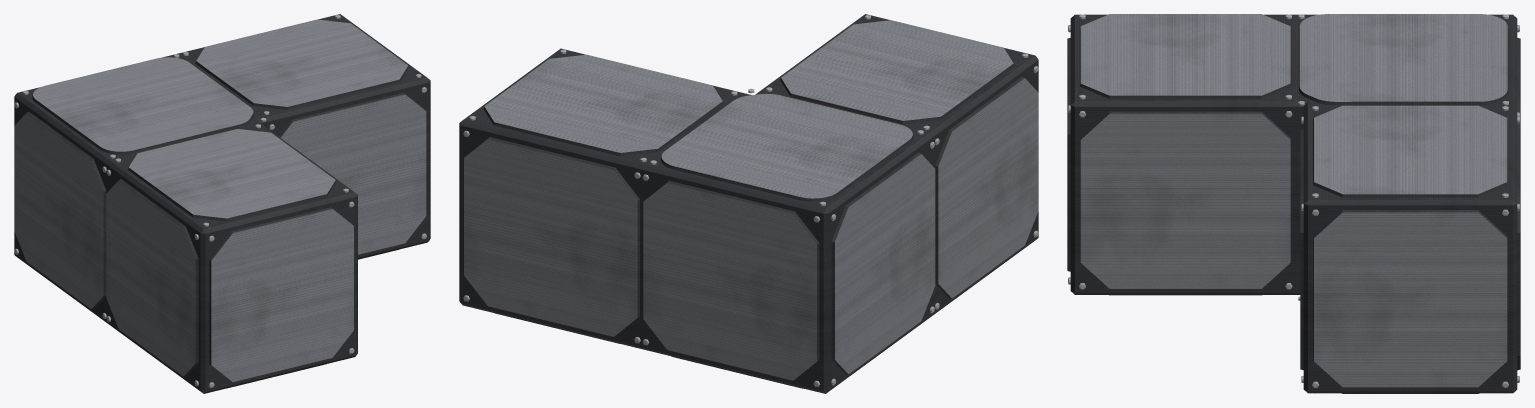
The model's file is R4B_CornerL3.glb.
3 renders of one model, left to right at view 1: azimuth 30°, elevation 25°; view 2: azimuth 150°, elevation 25°; view 3: azimuth 270°, elevation 25°, orthographic. The views are drawn at different scales.
Visible parts, largest first — view 1: R4B_CornerL3; view 2: R4B_CornerL3; view 3: R4B_CornerL3.
Boxes of the visible parts, x1,y1,x2,y2 form: R4B_CornerL3: [14, 14, 430, 393]; R4B_CornerL3: [459, 14, 1038, 393]; R4B_CornerL3: [1067, 14, 1520, 393].
Bounding box in the file's own units: 1.07 × 0.52 × 1.07.
3 materials, 3 textured.
